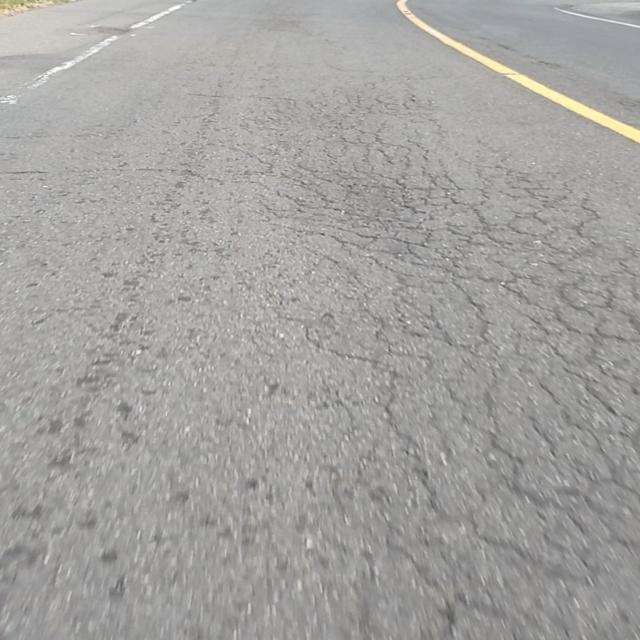Retak Buaya: (244, 75, 640, 503)
